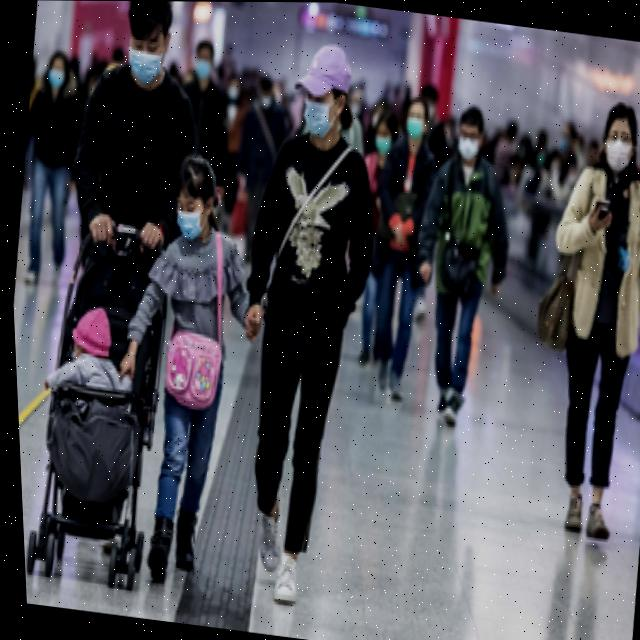Mask: (295, 92, 347, 145), (123, 39, 168, 84), (172, 195, 212, 242), (603, 132, 635, 172), (453, 135, 479, 159), (402, 112, 426, 137), (192, 56, 212, 79), (371, 131, 392, 152), (45, 68, 65, 90), (224, 82, 238, 98)
